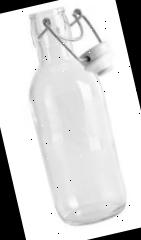glass: (11, 0, 141, 230)
